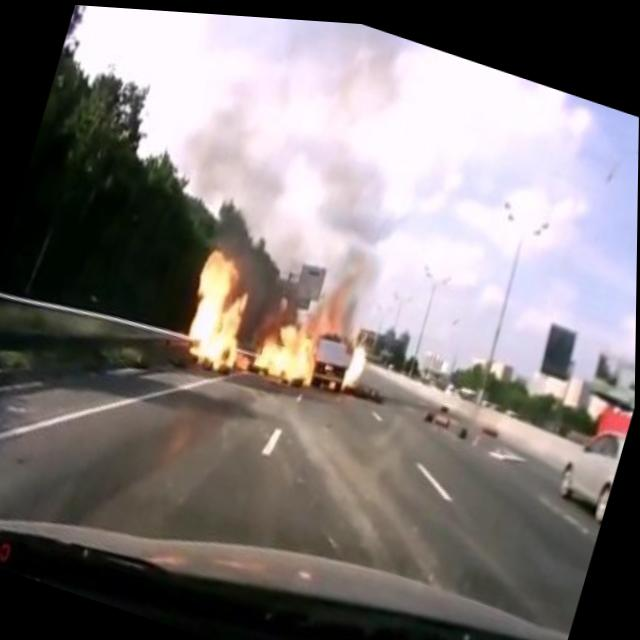fire: (172, 240, 340, 397), (340, 323, 377, 391)
